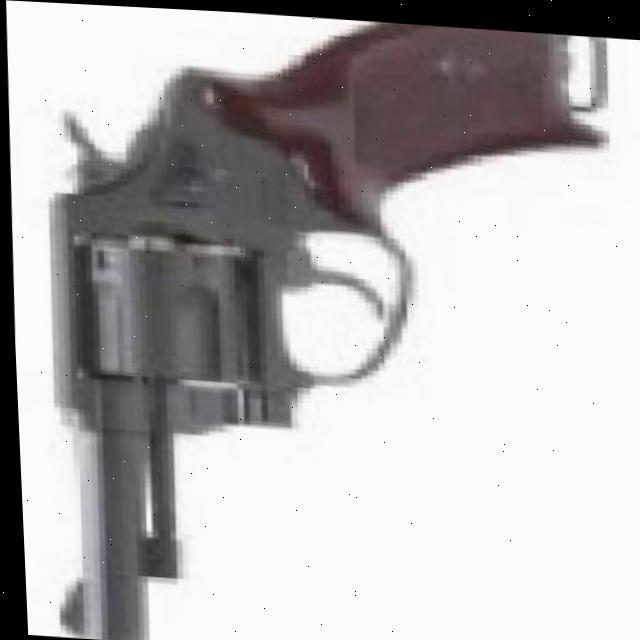gun: (20, 1, 627, 640)
